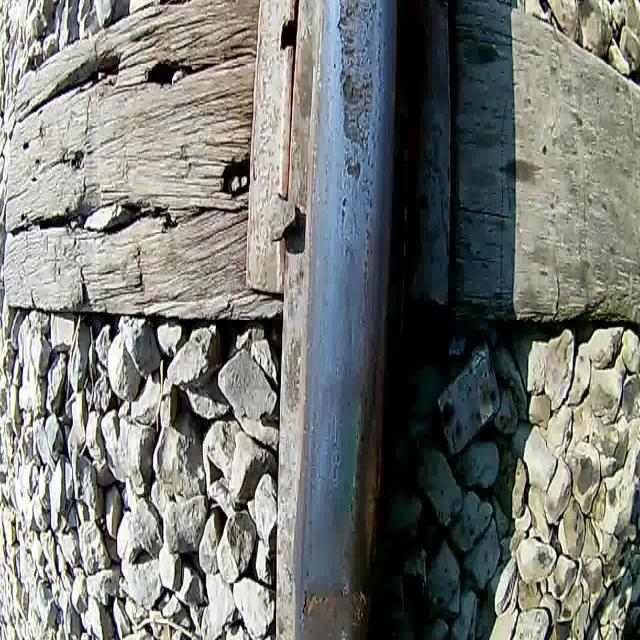Spallings: (300, 585, 331, 621), (351, 582, 368, 640)
Squats: (332, 0, 386, 196), (296, 571, 363, 640)
